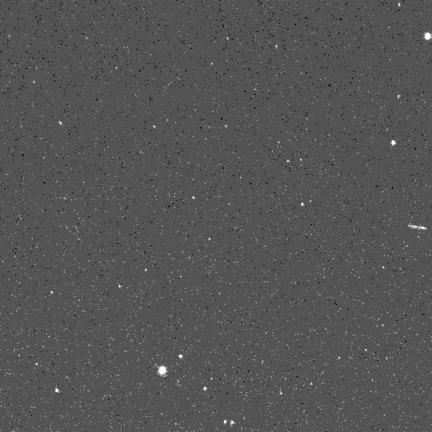blob: (159, 366, 167, 376), (424, 33, 431, 40), (391, 140, 396, 145), (55, 388, 59, 392), (179, 355, 183, 358)
